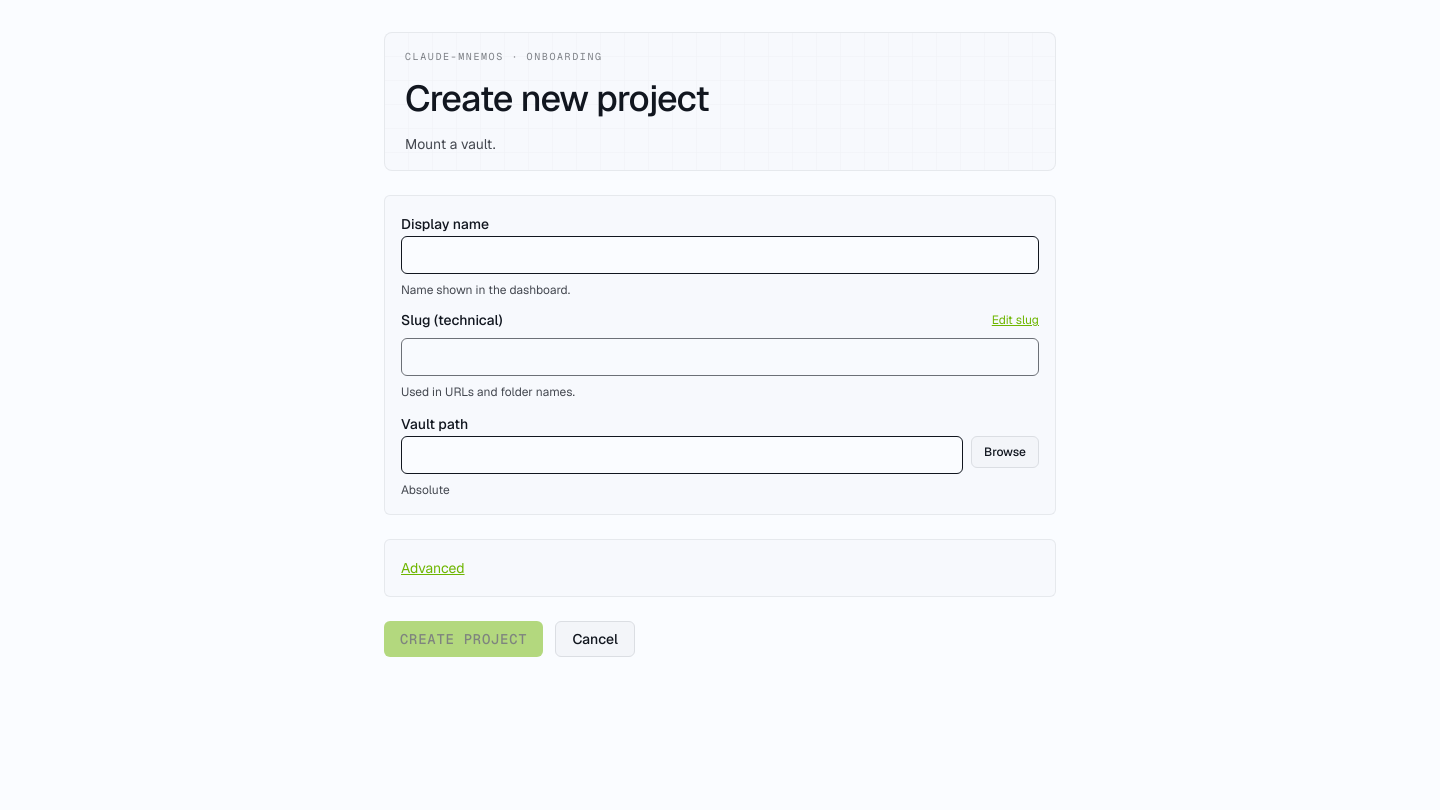
Scenario: OnboardingAdvanced › Browse → Select sets vault input
Click the button "Browse" at (1005, 452), box [971, 436, 1039, 468]
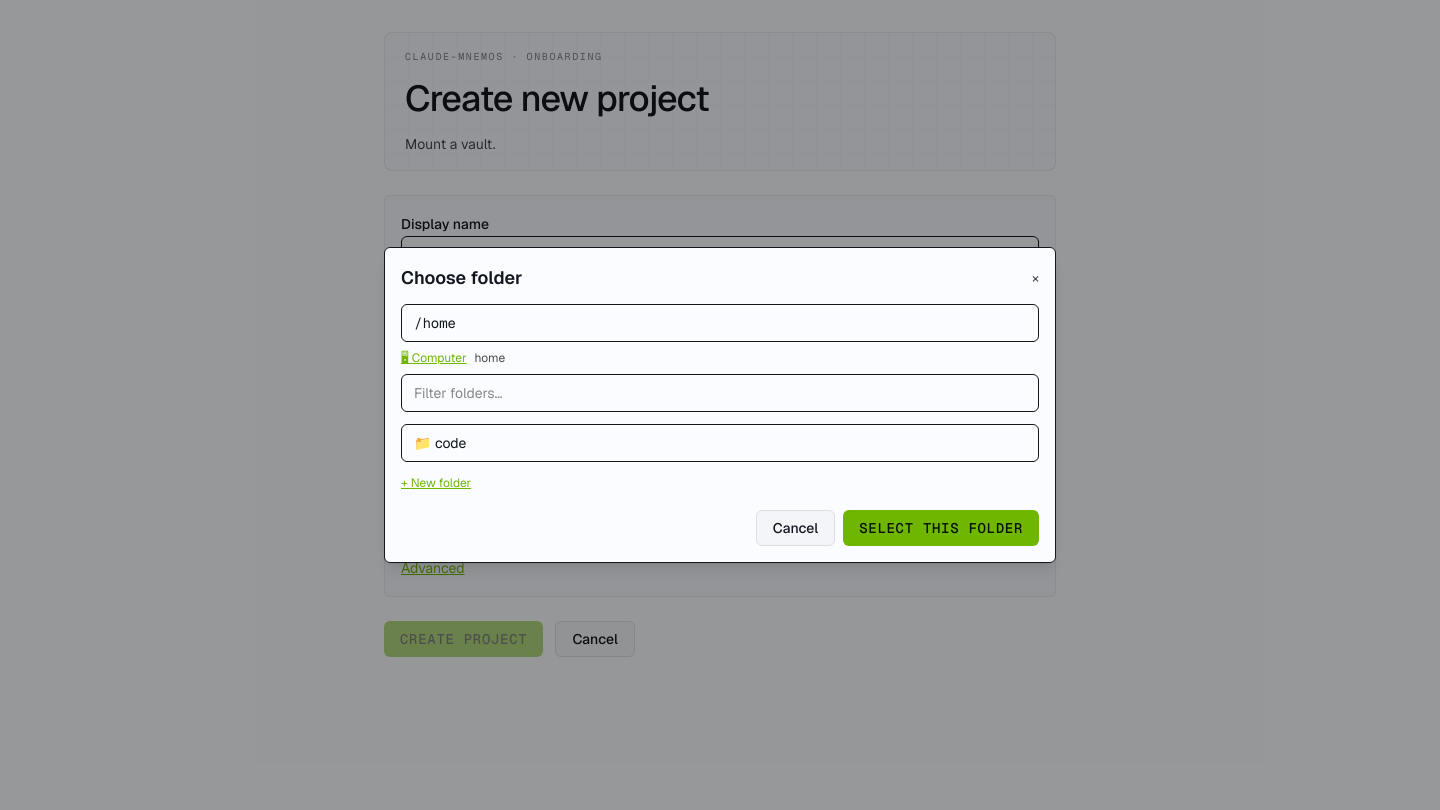
Check: the button "📁 code" is shown, box [402, 425, 1038, 461]
Click the button "Select this folder" at (941, 528), box [843, 510, 1039, 546]
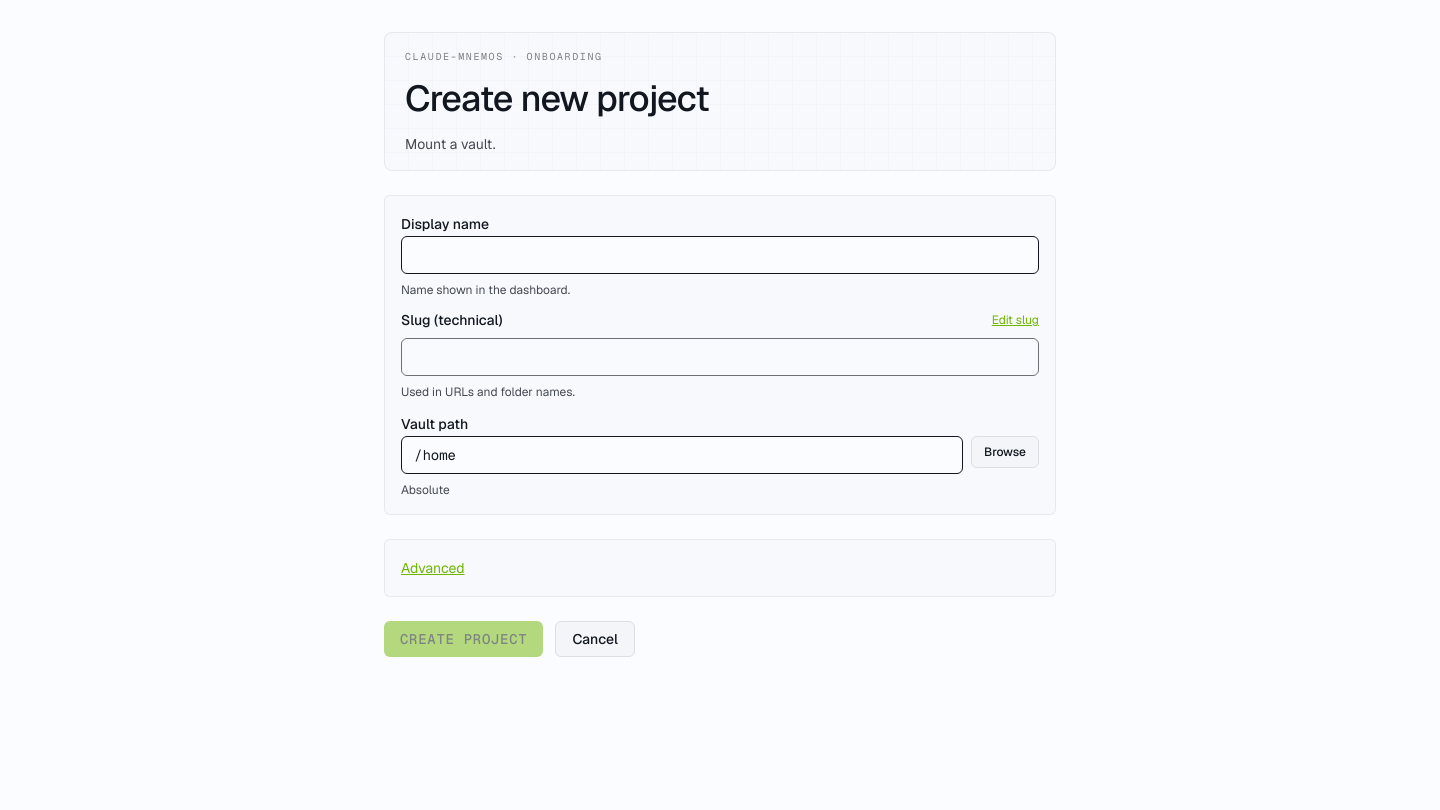
Check: the field labelled "Vault path" holds "/home", box [401, 436, 963, 474]
